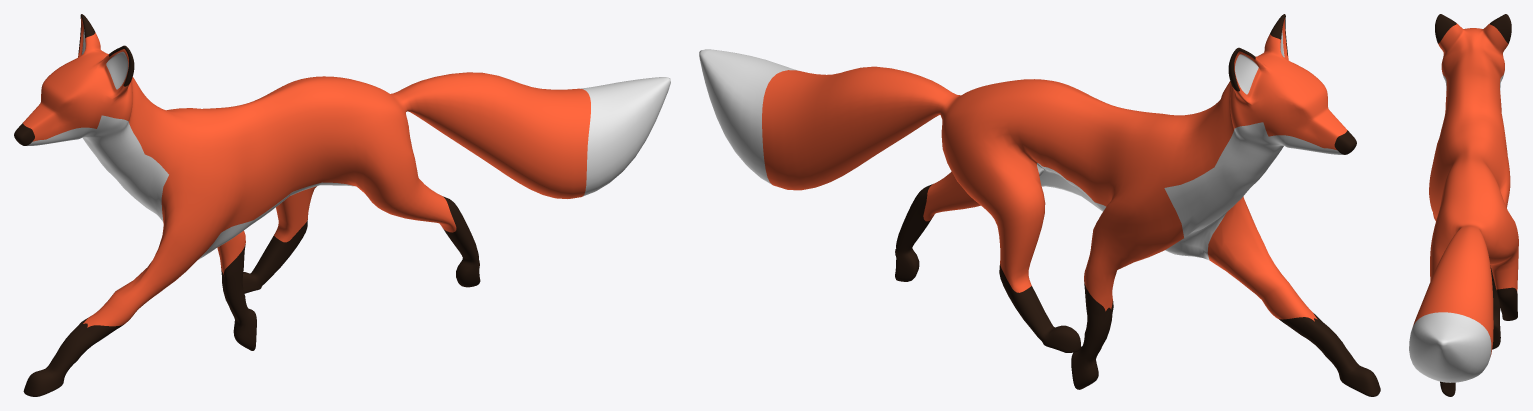
Rendered from adult_fox.fbx.
3 renders of one model, left to right at view 1: azimuth 30°, elevation 25°; view 2: azimuth 150°, elevation 25°; view 3: azimuth 270°, elevation 25°, orthographic. The views are drawn at different scales.
Parts seen in each view (by area): view 1: Plane; view 2: Plane; view 3: Plane.
Boxes of the visible parts, x1,y1,x2,y2 form: Plane: (14,14,670,396); Plane: (699,14,1380,396); Plane: (1409,14,1518,396).
Size of the model in its own units: 406 by 222 by 79.45.
